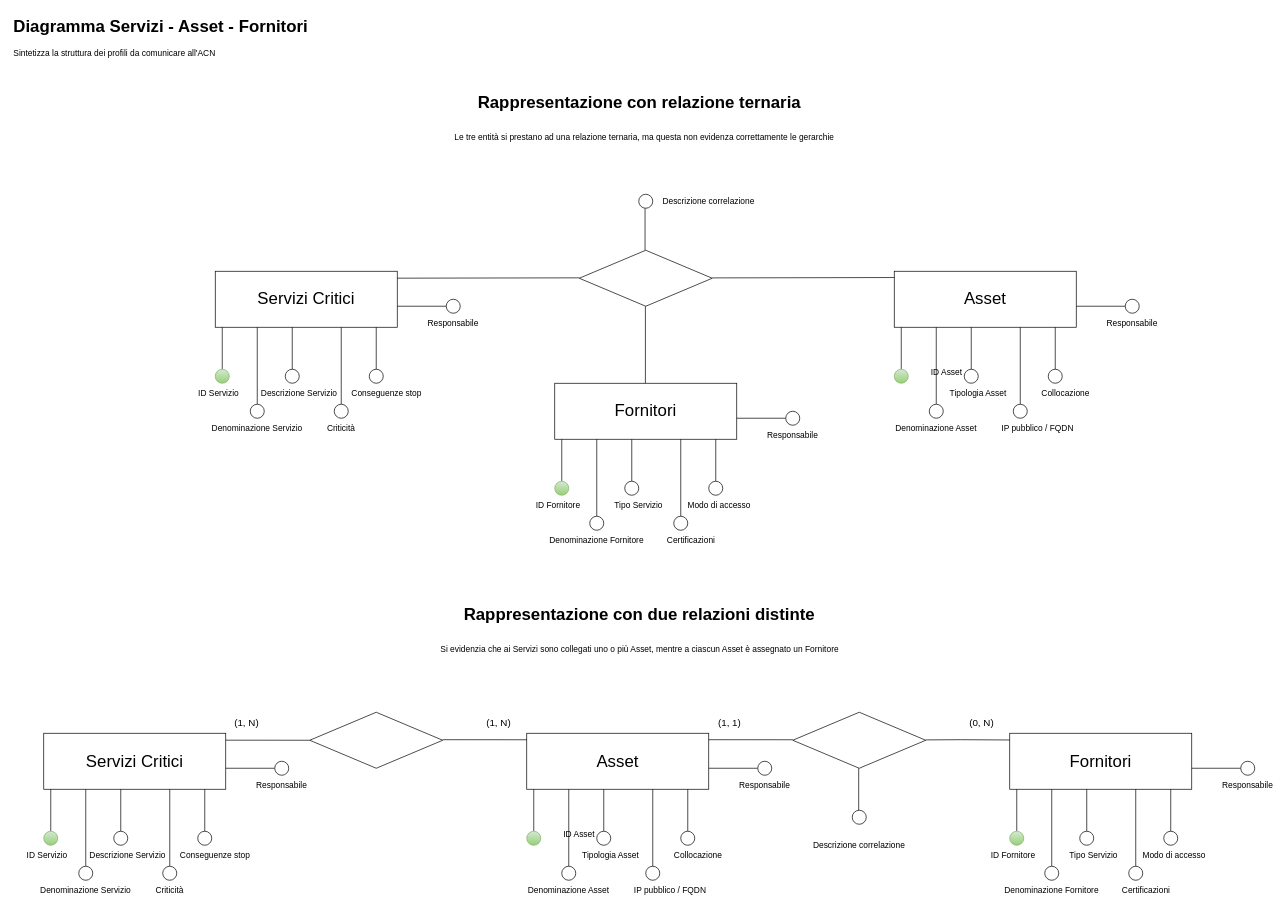
Image size: 1285x913. Some labels were removed from this diagram. Each missing label, with the centre of its shape:
"Asset/Forn." goes at point 859,740.
"Correlazione" goes at point 645,278.
"Serv./Asset" goes at point 376,740.
